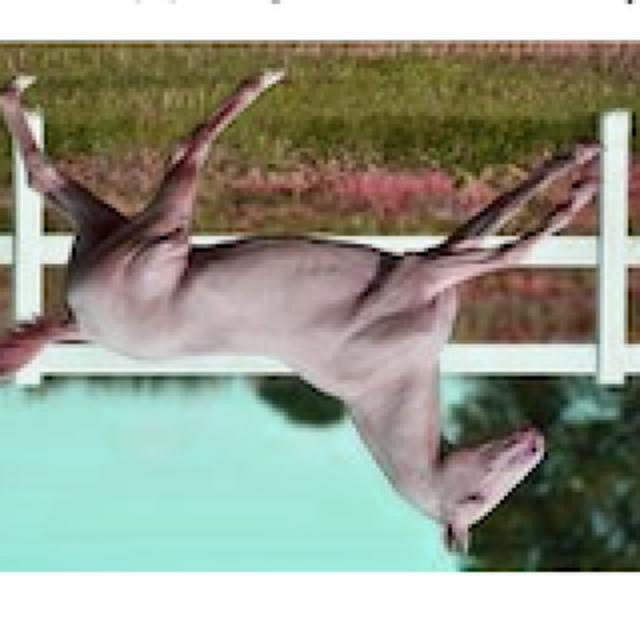Horse: (4, 64, 608, 564)
